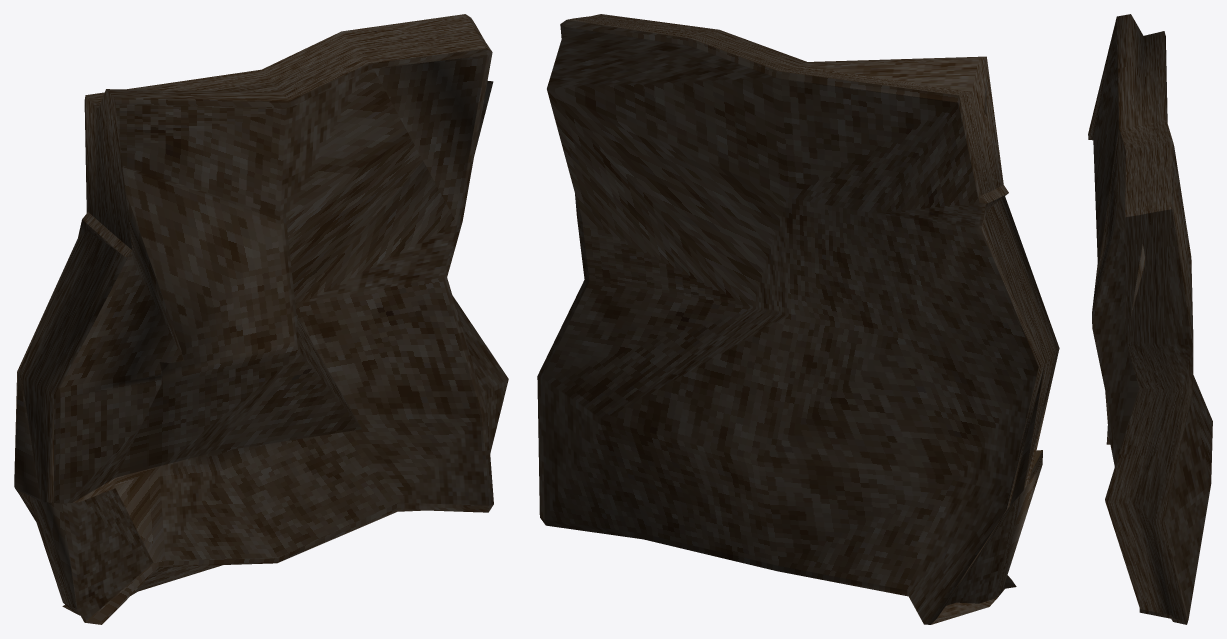
File: wall_plate4.glb
3 renders of one model, left to right at view 1: azimuth 30°, elevation 25°; view 2: azimuth 150°, elevation 25°; view 3: azimuth 270°, elevation 25°, orthographic. The views are drawn at different scales.
Parts seen in each view (by area): view 1: Cube; view 2: Cube; view 3: Cube.
Part boxes in pixels (box(x1,y1,x2,y2)): Cube: box(14, 14, 508, 624); Cube: box(537, 14, 1059, 624); Cube: box(1088, 14, 1212, 624).
Bounding box in the file's own units: 0.8677 × 0.9106 × 0.2258.
Materials: 1 (1 with a texture image).
